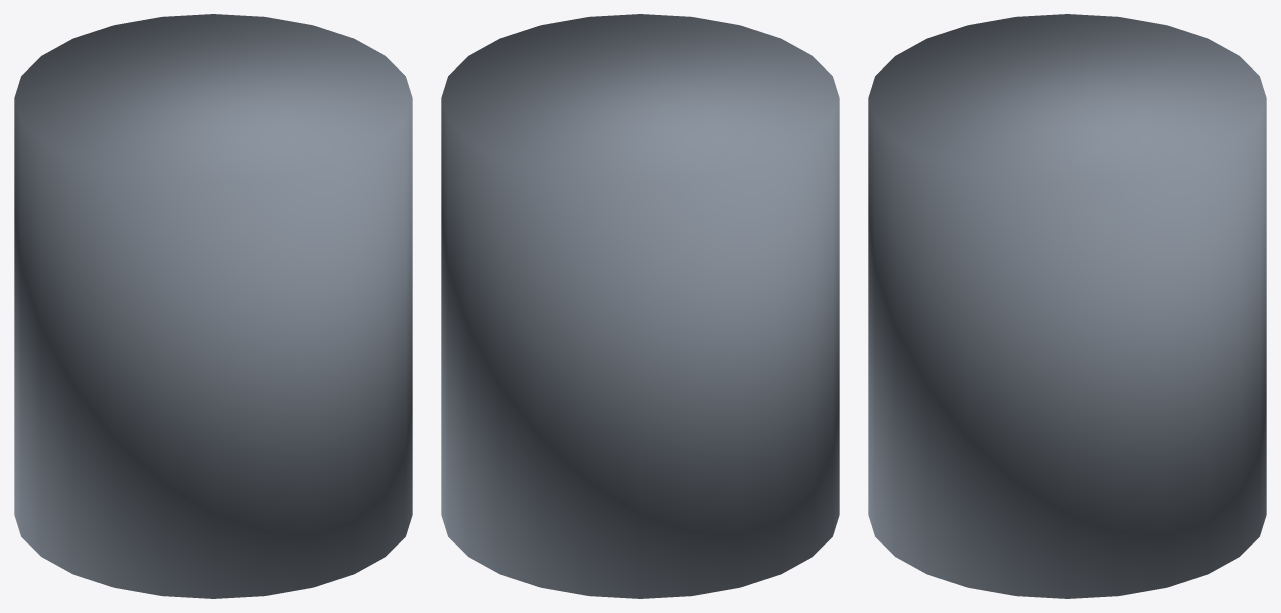
The model's file is wastebin.glb.
3 views of the same model, side by side, from view 1: azimuth 30°, elevation 25°; view 2: azimuth 150°, elevation 25°; view 3: azimuth 270°, elevation 25° (orthographic).
Visible parts, largest first — view 1: Cylinder; view 2: Cylinder; view 3: Cylinder.
Part boxes in pixels (<box>): Cylinder: <box>14,14,412,598</box>; Cylinder: <box>441,14,839,598</box>; Cylinder: <box>868,14,1266,598</box>.
Size of the model in its own units: 0.13 by 0.15 by 0.13.
